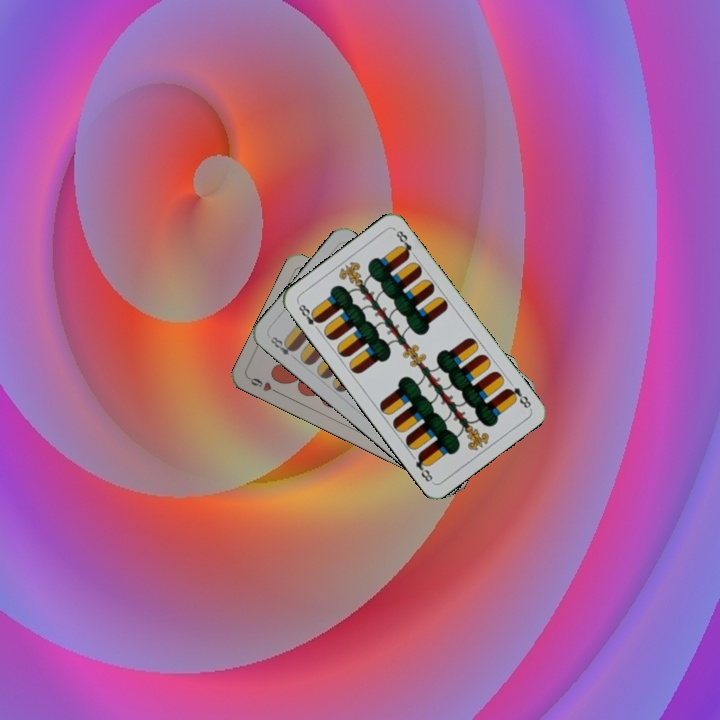E8: (294, 299, 324, 334), (266, 332, 299, 362), (502, 383, 534, 411)
H9: (245, 373, 283, 397)
